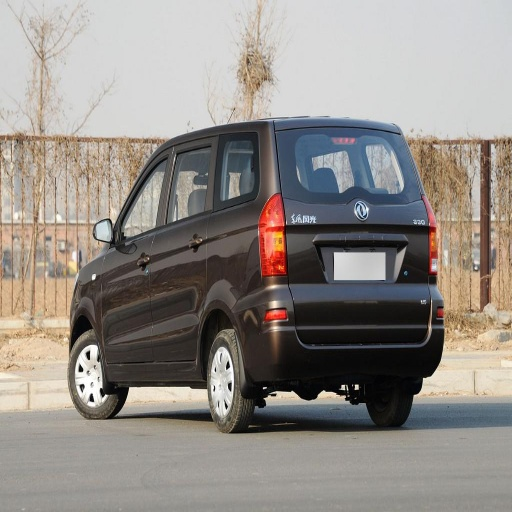back_bumper: (249, 283, 444, 375)
back_glass: (289, 128, 418, 198)
back_left_door: (151, 137, 231, 366)
tailgate: (284, 190, 419, 279)
trunk: (286, 200, 424, 340)
